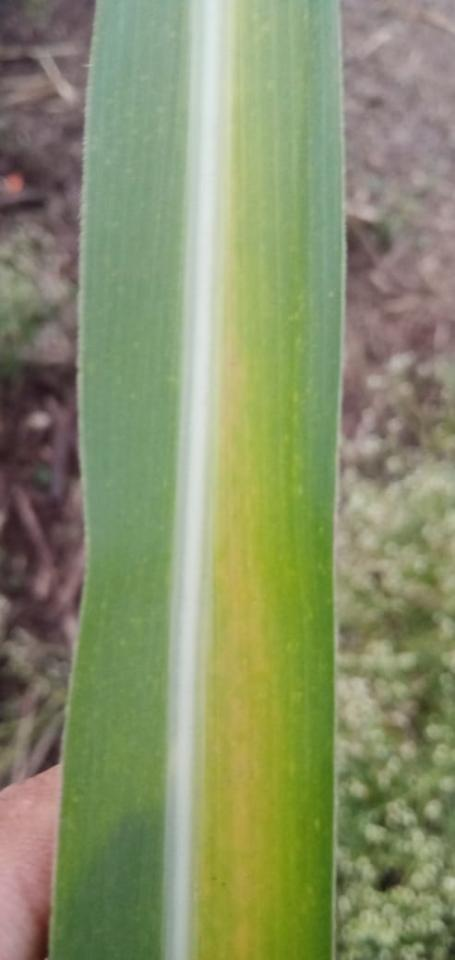Yellow: (197, 171, 283, 959)
